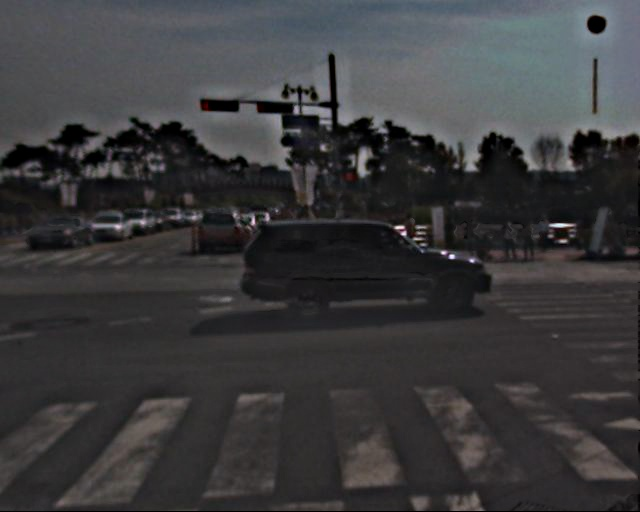person: (466, 214, 487, 265), (443, 218, 463, 266), (523, 220, 542, 266), (401, 211, 420, 257), (538, 215, 556, 260), (503, 221, 521, 266), (578, 211, 596, 256)
